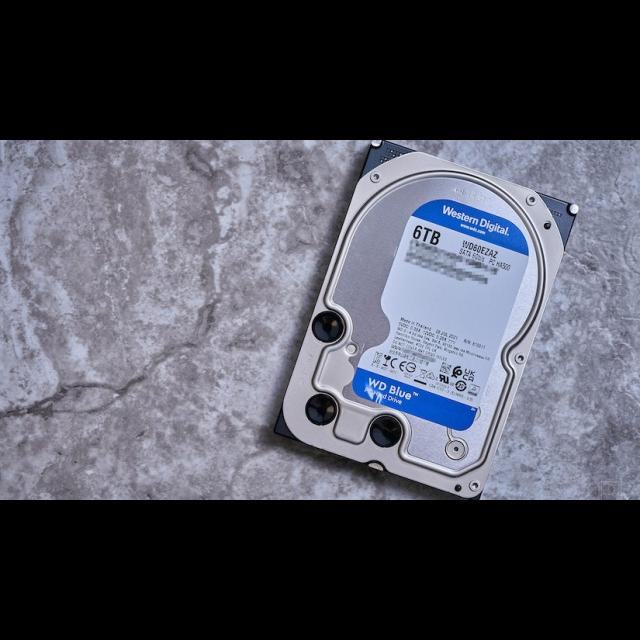HDD: (273, 140, 579, 500)
